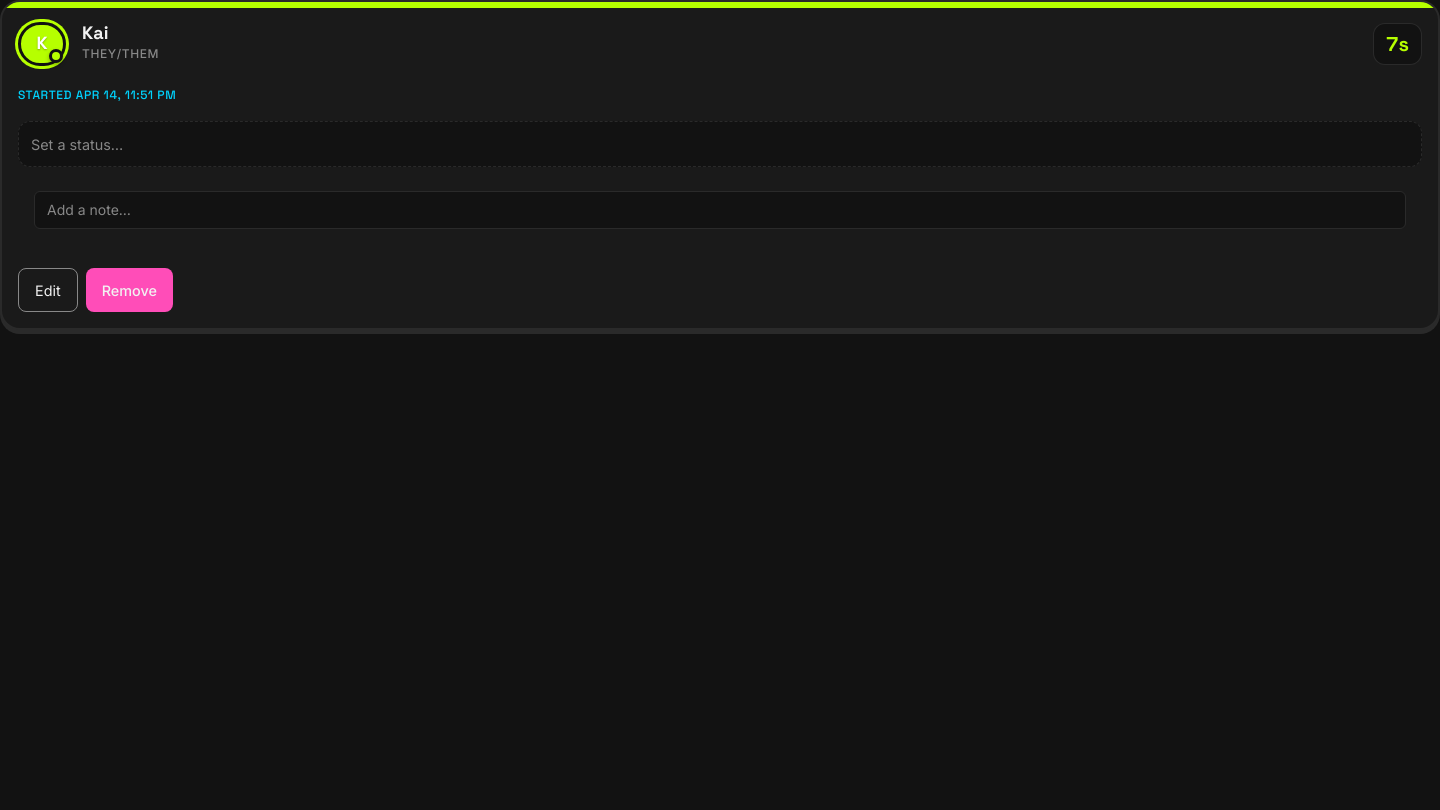
Scenario: sheet closes after selecting a status
What coordinates should you click on to do the following:
click the button with aria-label "edit status"
I would click on:
 (77, 144)
Its box is [31,122,1409,166].
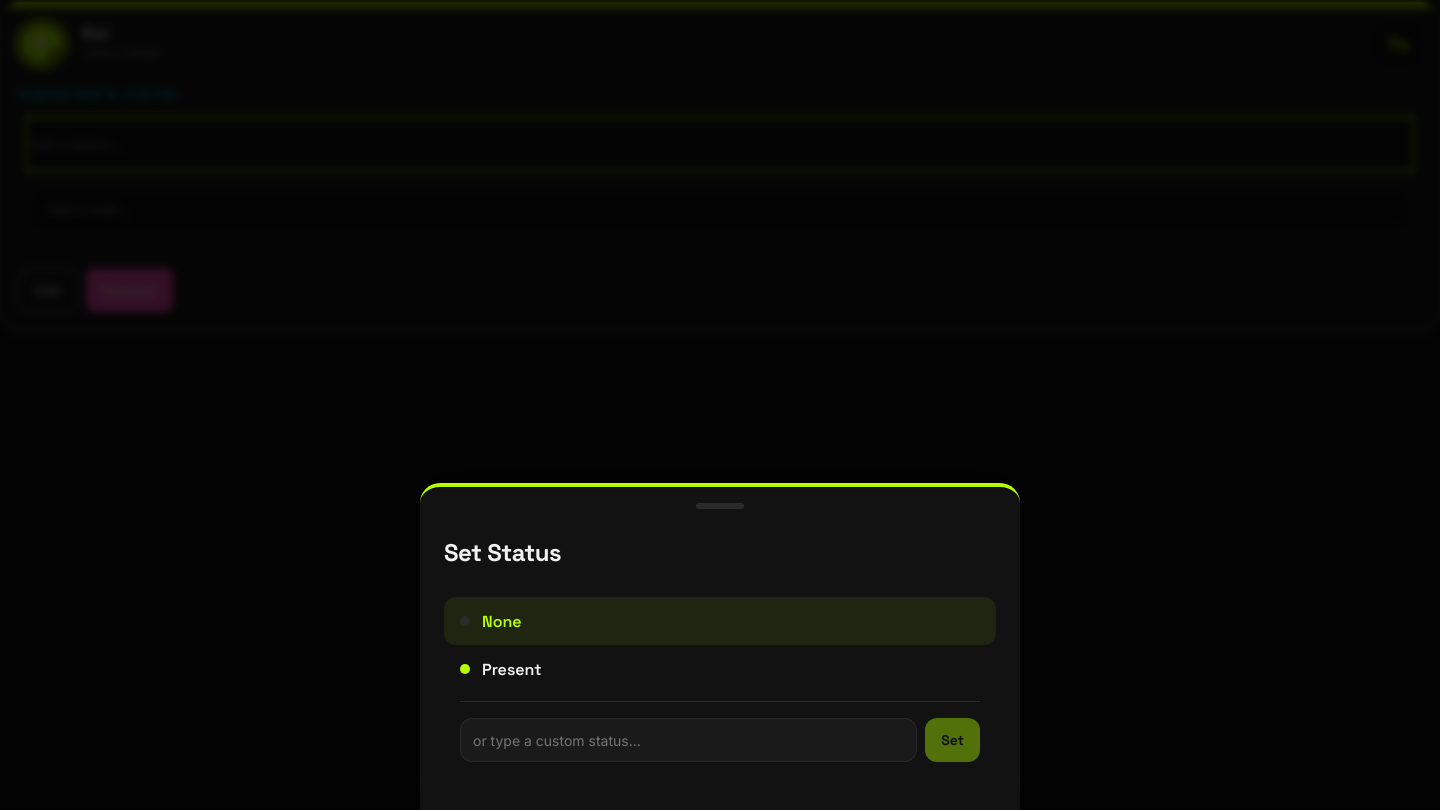
What coordinates should you click on to do the following:
click the button "Present"
I would click on:
 (512, 669)
Its box is [444,645,996,693].
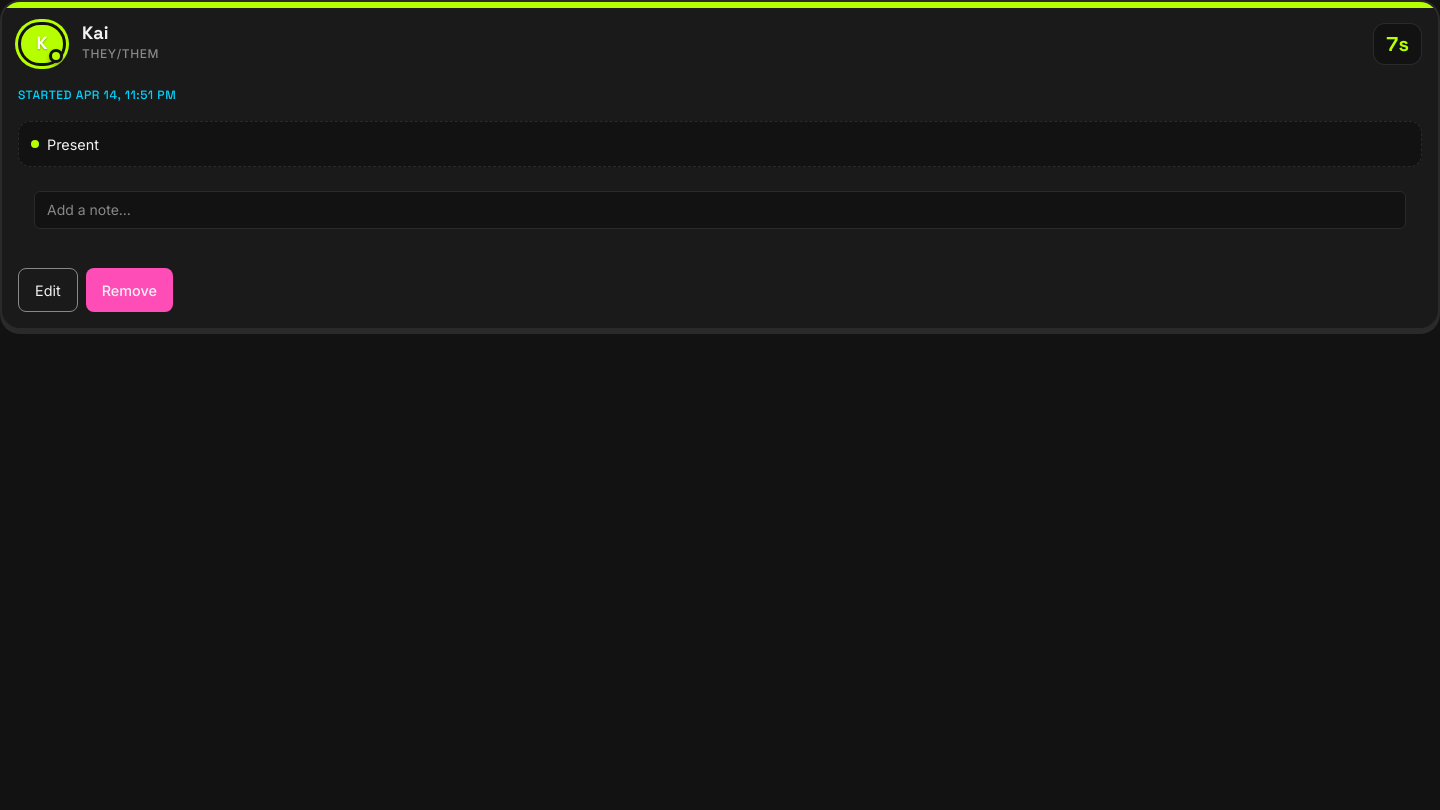
Expected: the dialog is gone
